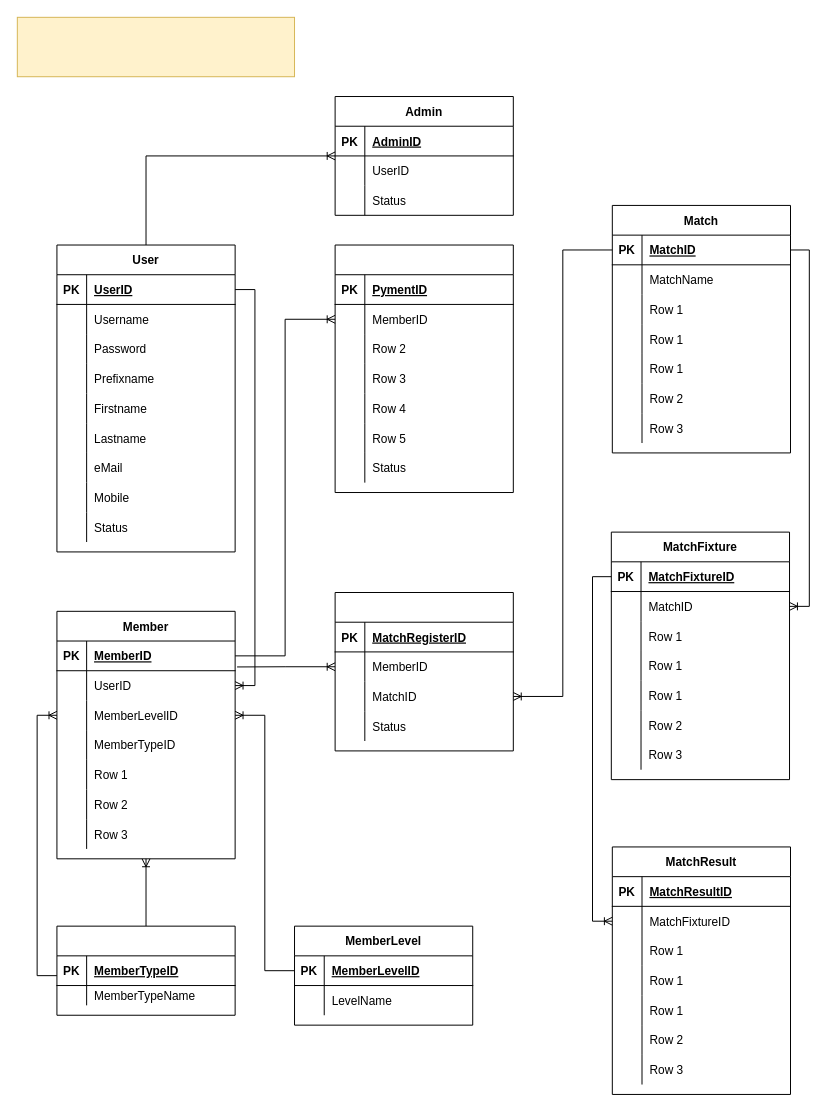
Image size: 835x1112. Some labels were removed from this diagram. The shapes that lost their labels are listed below. From the top down, each one's box as (x1, y1, x2, y2) in pixels, then its label:
(16, 16, 295, 77): ER Diagram: eSports Club Management System
(334, 244, 513, 493): Payment
(334, 592, 513, 751): MatchRegiter
(56, 925, 235, 1015): MemberTableType
